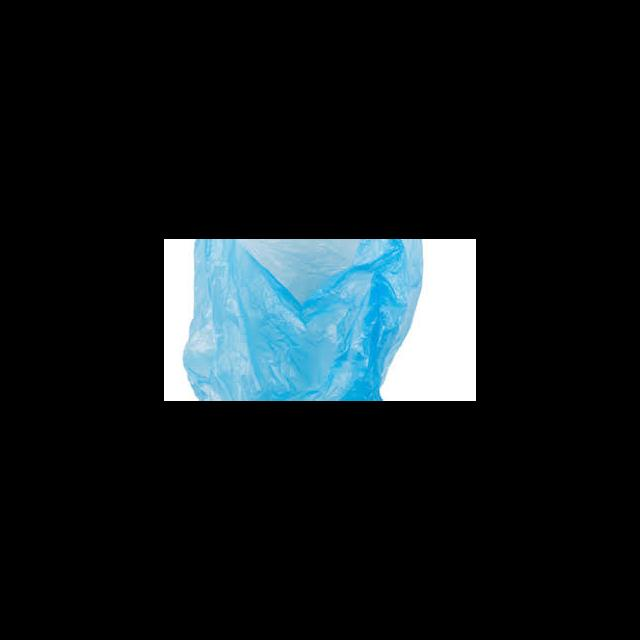plastic: (181, 239, 422, 400)
